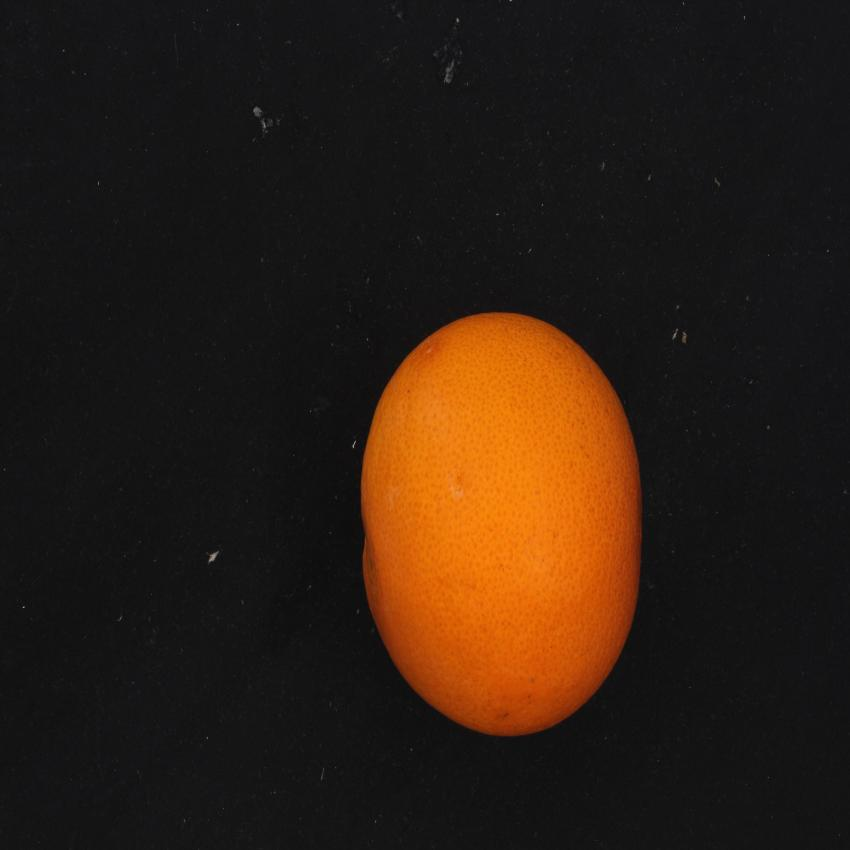Buen estado: (355, 302, 662, 751)
